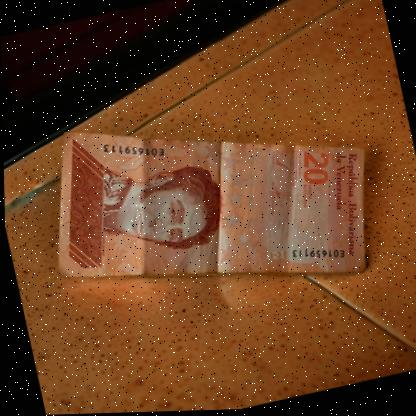twenty-front-vef: (77, 23, 346, 389)
